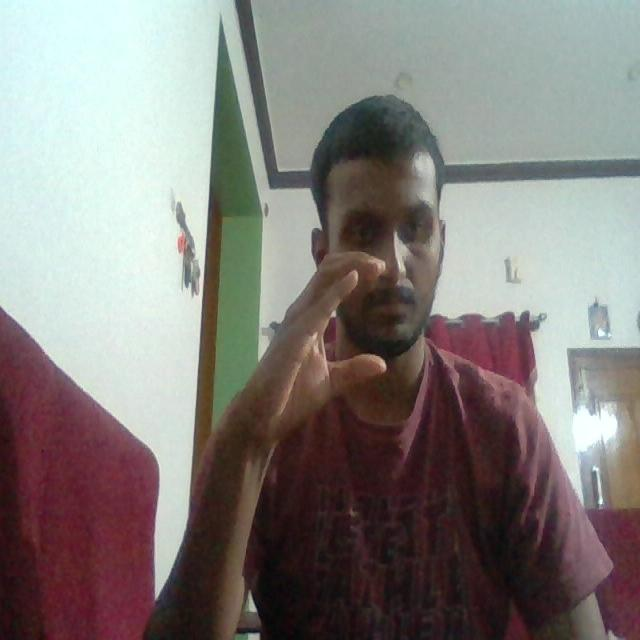no: (253, 245, 398, 406)
